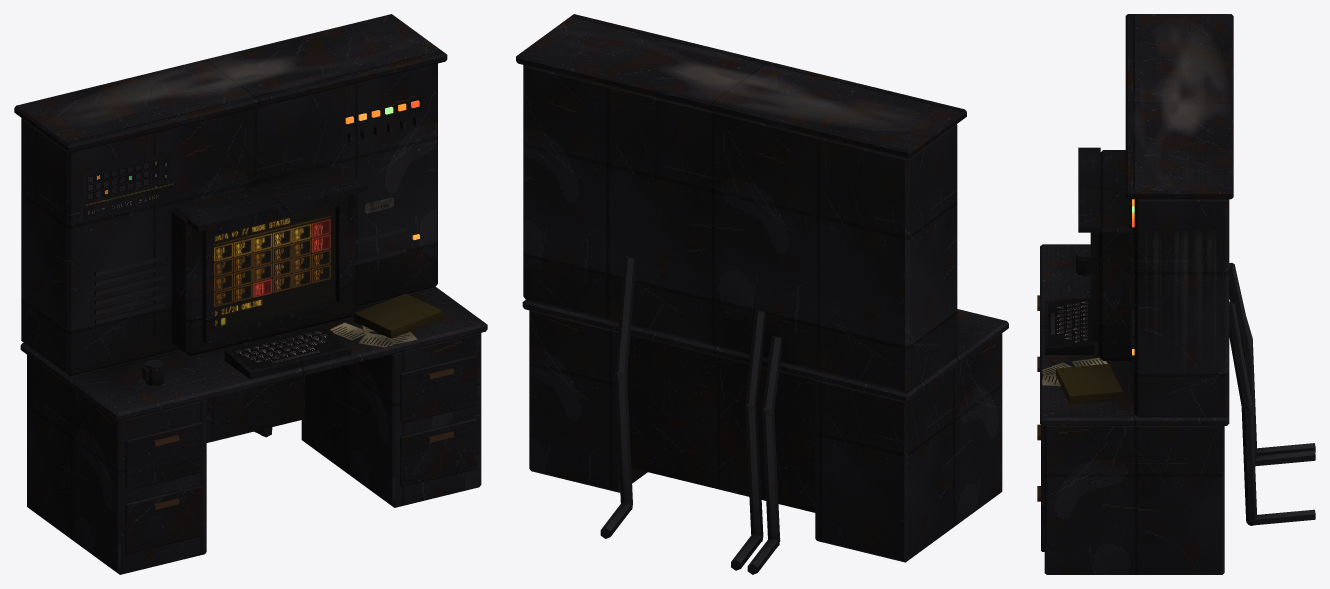
File: terminal_server.glb
3 renders of one model, left to right at view 1: azimuth 30°, elevation 25°; view 2: azimuth 150°, elevation 25°; view 3: azimuth 270°, elevation 25°, orthographic. The views are drawn at different scales.
Visible parts, largest first — view 1: body, screens, panels, decals; view 2: body, decals; view 3: body, decals, panels.
Boxes of the visible parts, <box> form: body: <box>14,14,487,574</box>; screens: <box>214,206,335,329</box>; panels: <box>82,151,344,370</box>; decals: <box>70,58,417,347</box>; body: <box>516,14,1008,574</box>; decals: <box>665,62,907,127</box>; body: <box>1037,14,1315,574</box>; decals: <box>1042,28,1223,386</box>; panels: <box>1048,299,1090,346</box>.
Size of what is drawn, in the model's own units: 1.88 by 1.91 by 1.24.
Materials: 17 (10 with a texture image).
